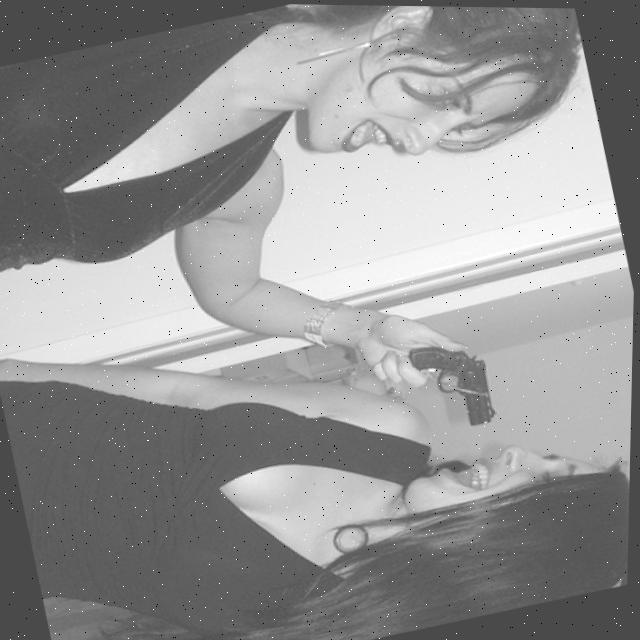pistol: (406, 329, 504, 435)
